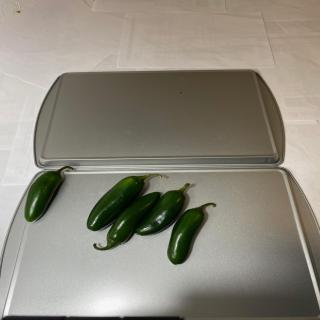Chilli: (86, 173, 162, 232), (167, 202, 216, 265)
Tomato: (93, 191, 161, 251), (134, 183, 190, 236), (24, 166, 75, 222)
